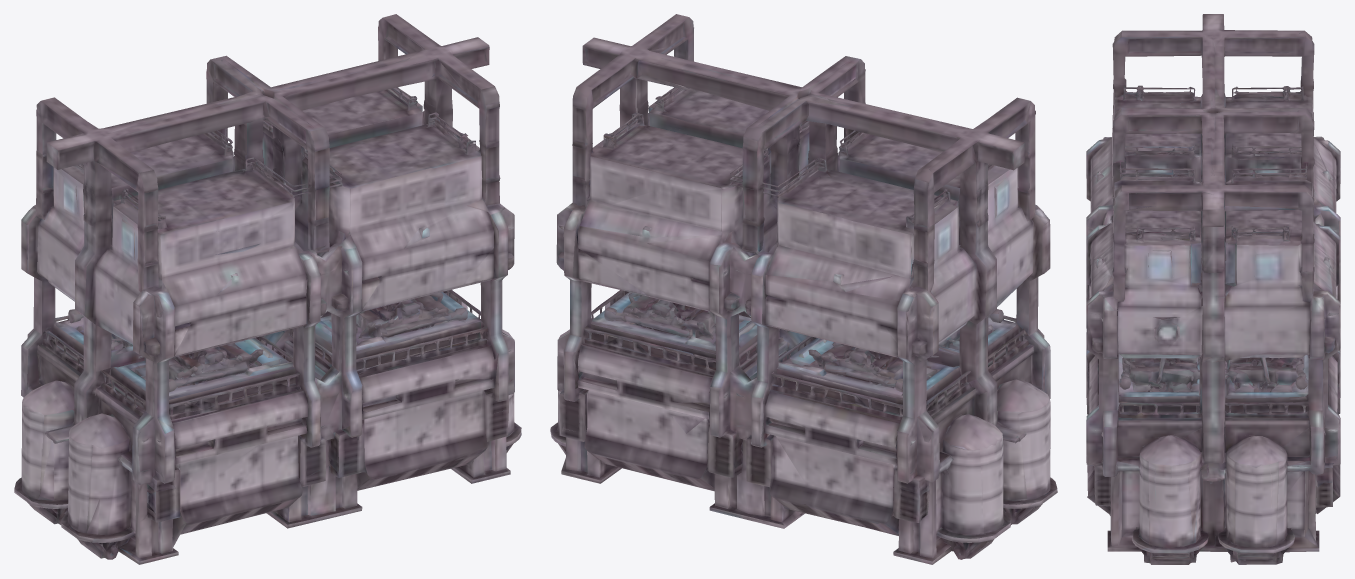
Rendered from factory-CDlC3Tui.glb.
3 renders of one model, left to right at view 1: azimuth 30°, elevation 25°; view 2: azimuth 150°, elevation 25°; view 3: azimuth 270°, elevation 25°, orthographic. The views are drawn at different scales.
Parts seen in each view (by area): view 1: Mesh_0; view 2: Mesh_0; view 3: Mesh_0.
Boxes of the visible parts, x1,y1,x2,y2 form: Mesh_0: [14, 14, 521, 564]; Mesh_0: [550, 14, 1057, 564]; Mesh_0: [1086, 14, 1340, 564].
Size of the model in its own units: 1.91 by 1.61 by 1.02.
1 material, 1 textured.
